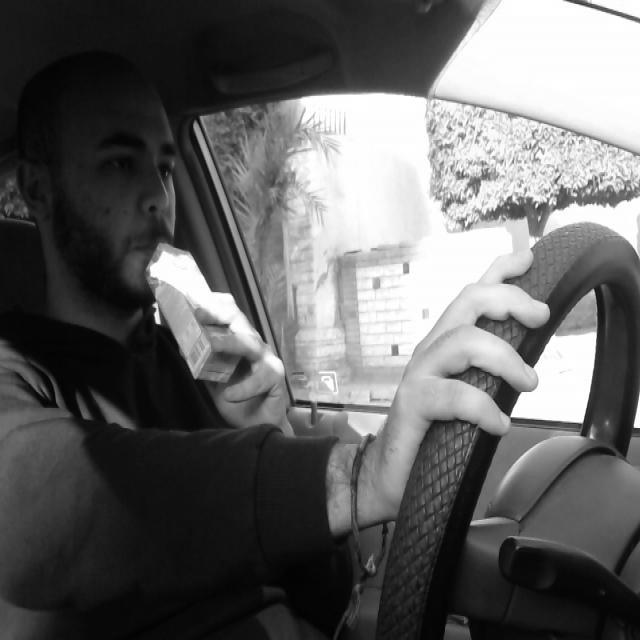Drinking: (141, 238, 247, 386)
